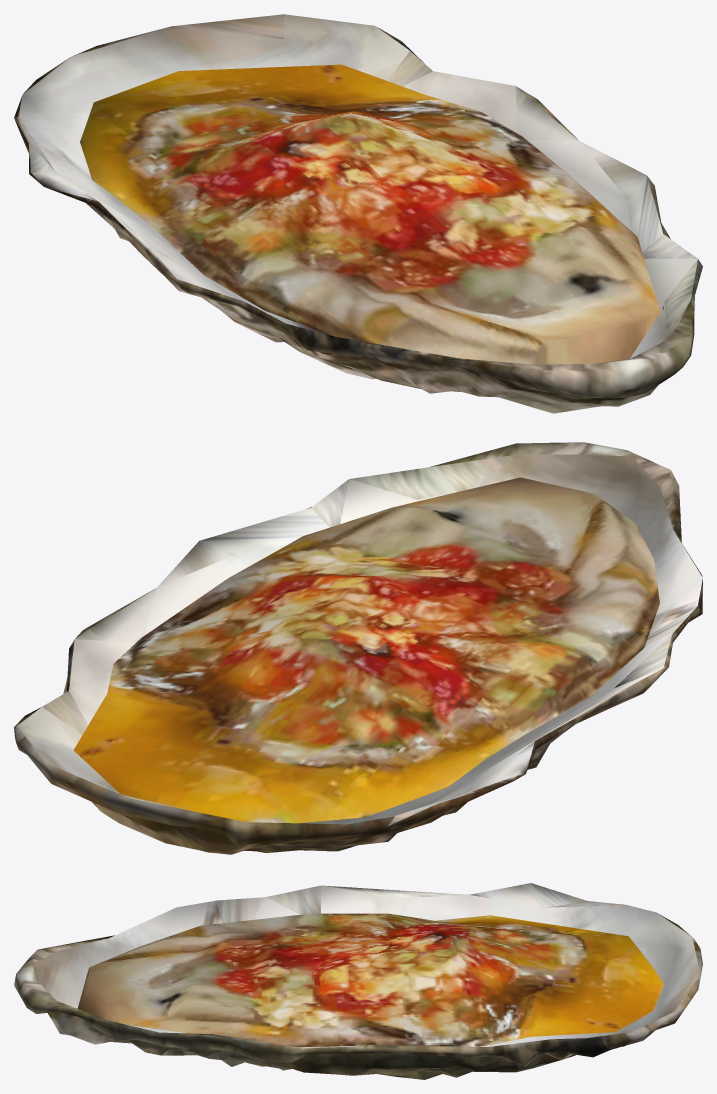
File: ref_scallop.fbx
3 renders of one model, top to bottom at view 1: azimuth 30°, elevation 25°; view 2: azimuth 150°, elevation 25°; view 3: azimuth 270°, elevation 25°, orthographic. The views are drawn at different scales.
Parts seen in each view (by area): view 1: ref_scallop; view 2: ref_scallop; view 3: ref_scallop.
Boxes of the visible parts, x1,y1,x2,y2 form: ref_scallop: (14, 14, 702, 413); ref_scallop: (14, 442, 702, 854); ref_scallop: (14, 883, 702, 1079).
Bounding box in the file's own units: 56.77 × 17.7 × 100.
Materials: 1 (1 with a texture image).
